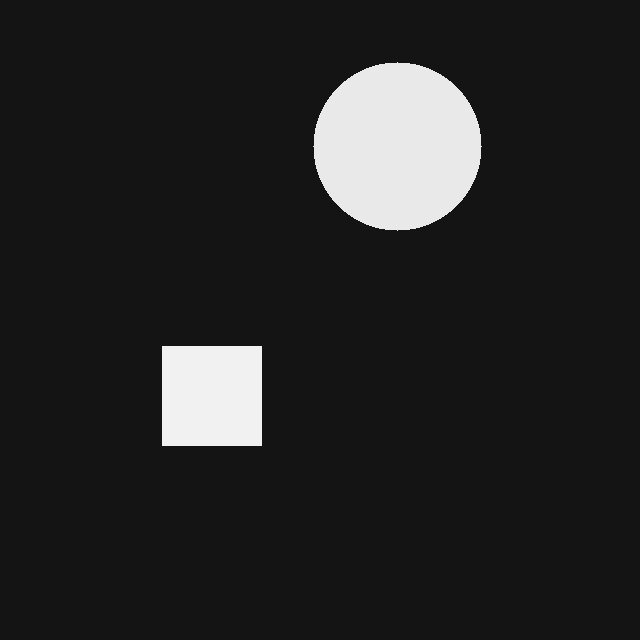circle: (313, 62, 481, 230)
square: (162, 346, 261, 445)
